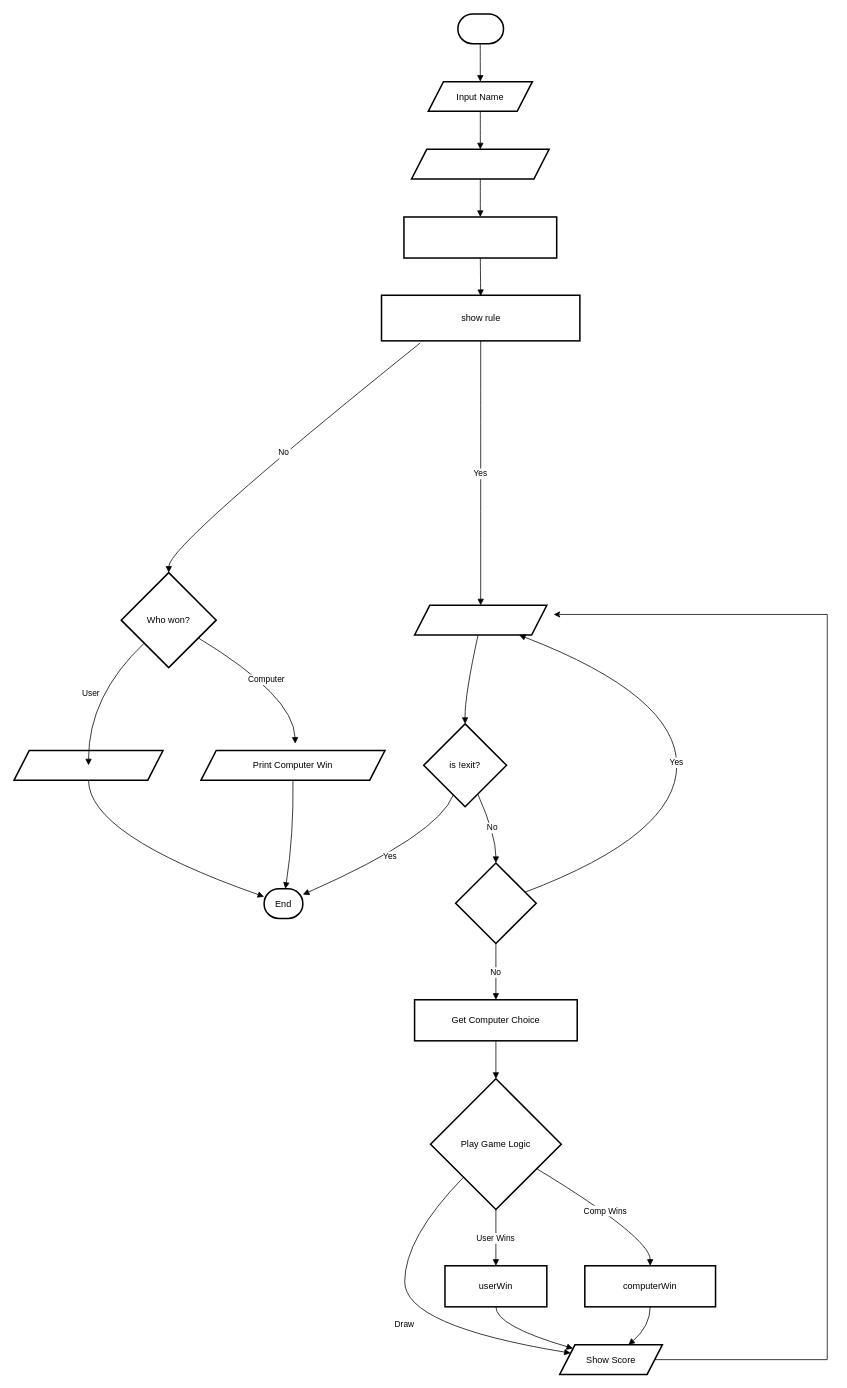
The diagram is 847 pixels wide and 1388 high, and some of its shapes have lost their labels. Each missing label, with the box of its shape:
Calculate winRound: (403, 216, 557, 258)
Input totalRounds: (410, 148, 549, 179)
Input userChoice: (413, 604, 547, 635)
isValid?: (454, 862, 537, 944)
Print You Win: (13, 749, 163, 781)
Start: (457, 13, 504, 44)
